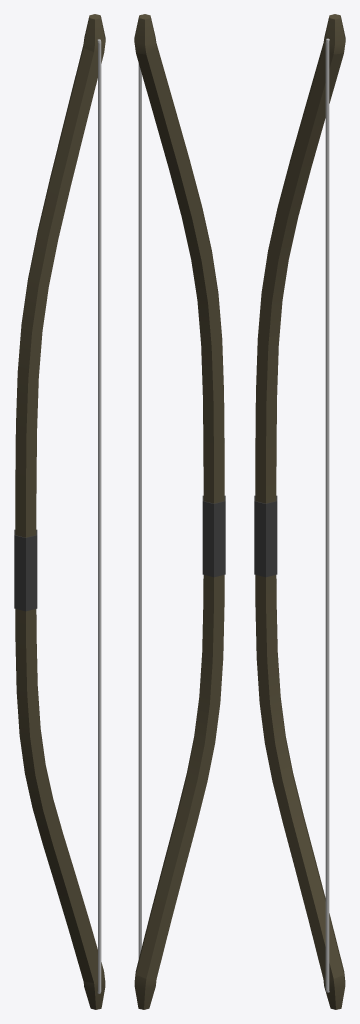
File: W_LongBow.fbx
3 views of the same model, side by side, from view 1: azimuth 30°, elevation 25°; view 2: azimuth 210°, elevation 25°; view 3: azimuth 330°, elevation 25° (orthographic).
Visible parts, largest first — view 1: LongBow; view 2: LongBow; view 3: LongBow.
Boxes of the visible parts, x1,y1,x2,y2 form: LongBow: (14, 14, 105, 1009); LongBow: (134, 14, 225, 1009); LongBow: (254, 14, 345, 1009).
Bounding box in the file's own units: 0.2641 × 2.75 × 0.0632.
